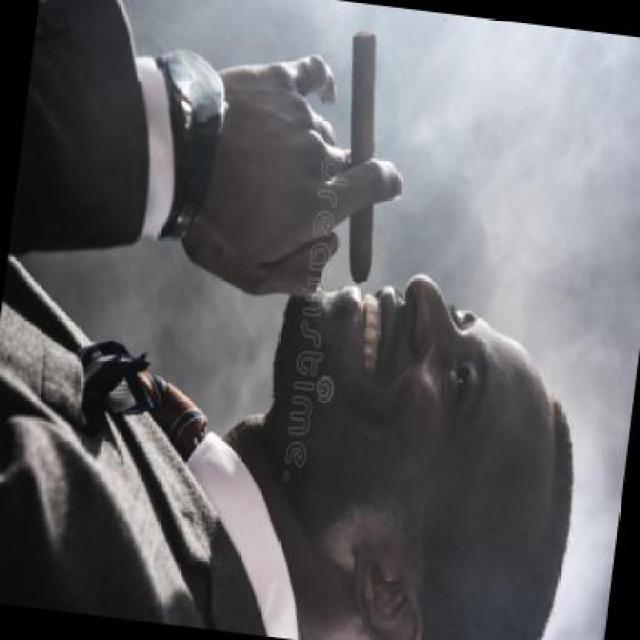smoke: (318, 26, 400, 288)
